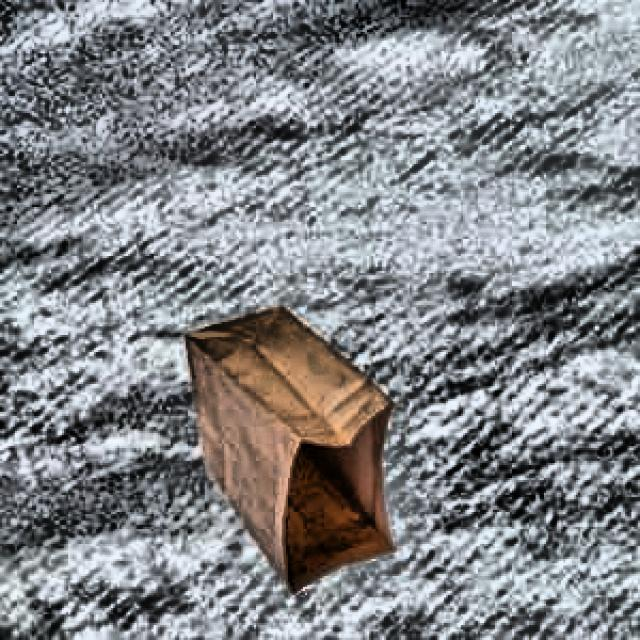Paper-bag: (165, 286, 410, 592)
